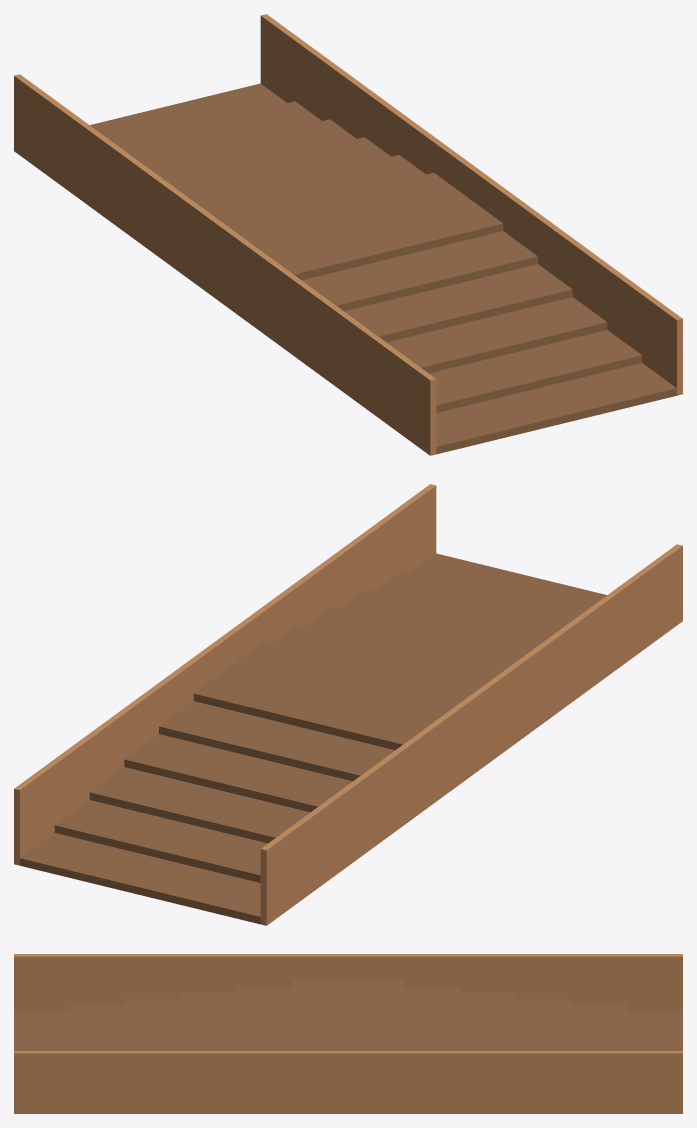
The model's file is Basic_Bridge.fbx.
The picture shows the model from 3 angles, top to bottom: view 1: azimuth 30°, elevation 25°; view 2: azimuth 150°, elevation 25°; view 3: azimuth 270°, elevation 25°; orthographic projection. The views are drawn at different scales.
Visible parts, largest first — view 1: pCube17; view 2: pCube17; view 3: pCube17.
Part boxes in pixels (bbox=[...]): pCube17: bbox=[14, 14, 682, 455]; pCube17: bbox=[14, 484, 682, 925]; pCube17: bbox=[14, 954, 682, 1113].
Size of the model in its own units: 1051 by 300 by 3000.
